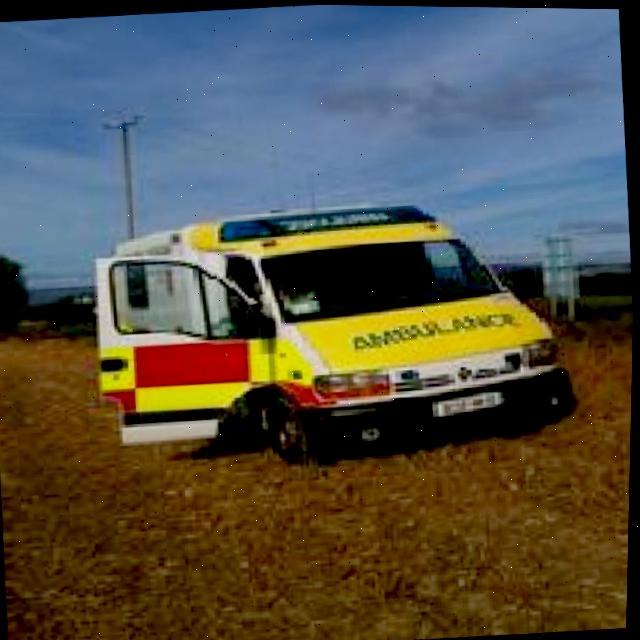emergency: (84, 184, 586, 485)
